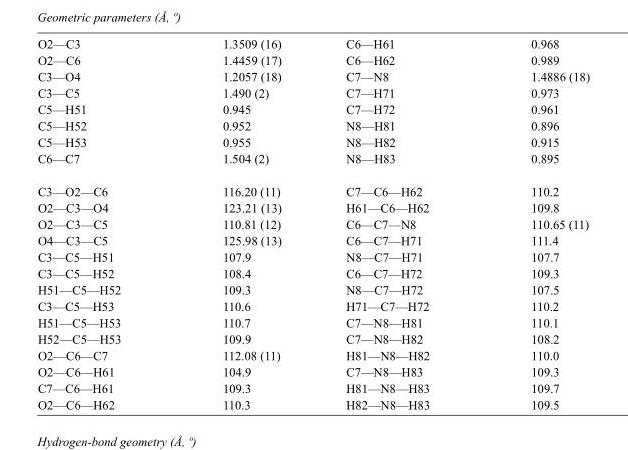table: (36, 37, 589, 411)
table column: (313, 37, 479, 411), (171, 37, 313, 411), (36, 37, 171, 411), (479, 37, 589, 411)
table row: (36, 174, 589, 199), (36, 150, 589, 174), (36, 51, 589, 68), (36, 84, 589, 101), (36, 133, 589, 150), (36, 215, 589, 232), (36, 248, 589, 265), (36, 297, 589, 314), (36, 330, 589, 347), (36, 379, 589, 396), (36, 68, 589, 84), (36, 101, 589, 117), (36, 117, 589, 133), (36, 199, 589, 215), (36, 232, 589, 248), (36, 265, 589, 281), (36, 281, 589, 297), (36, 314, 589, 330), (36, 347, 589, 363), (36, 363, 589, 379), (36, 396, 589, 411), (36, 37, 589, 51)
